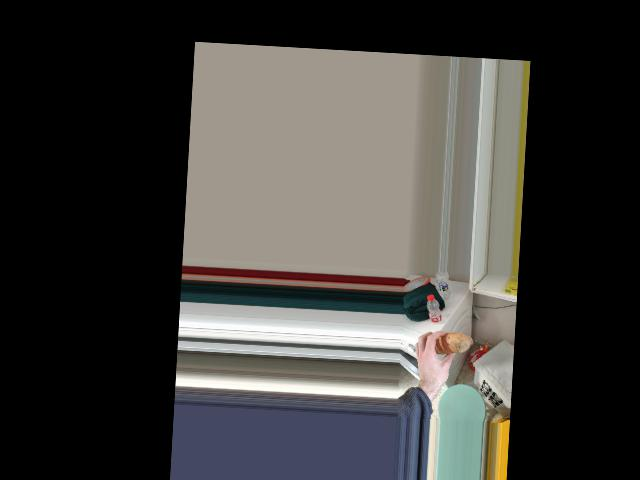sweet_potato: (424, 334, 461, 366)
